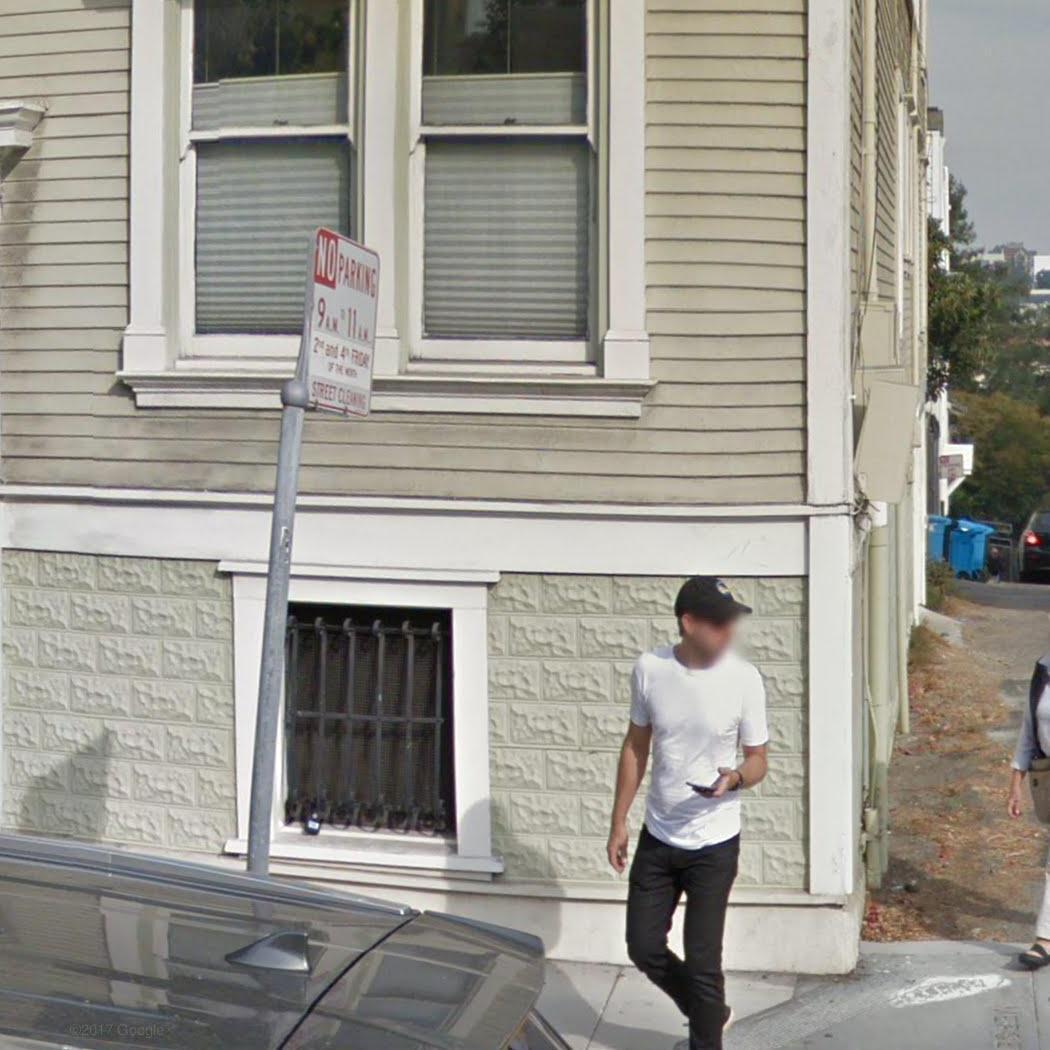No Parking: (302, 227, 383, 420)
